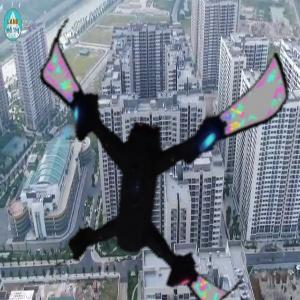drone: (4, 16, 283, 295)
